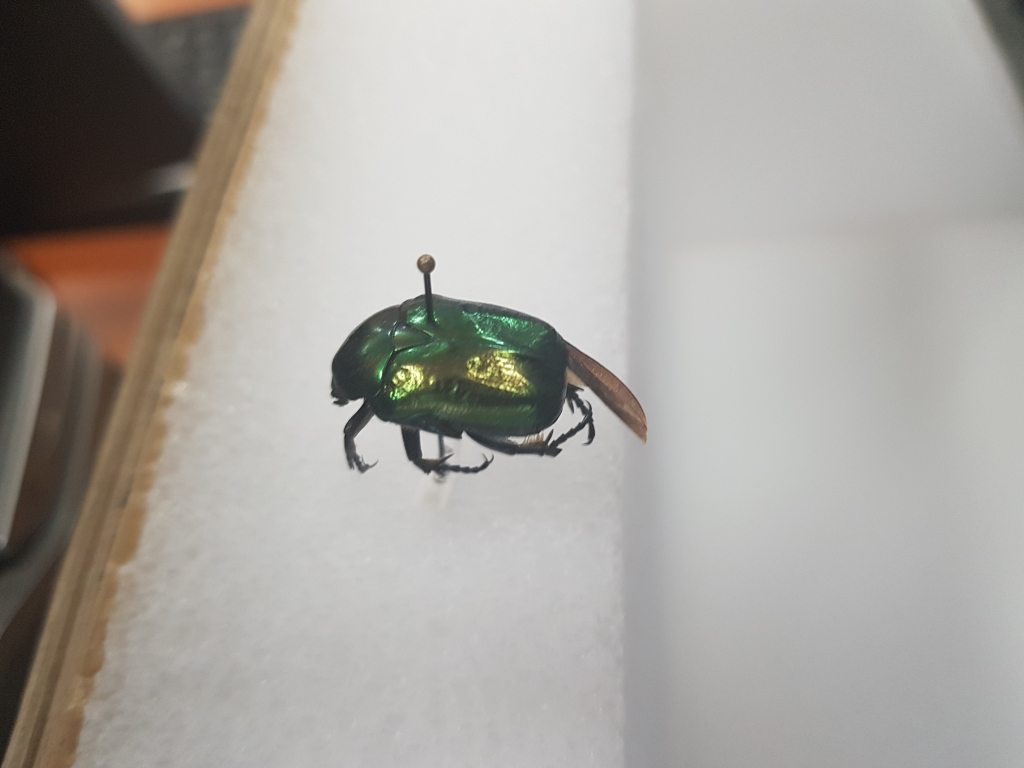Protaetia_angustata_angustata: (316, 290, 598, 486)
